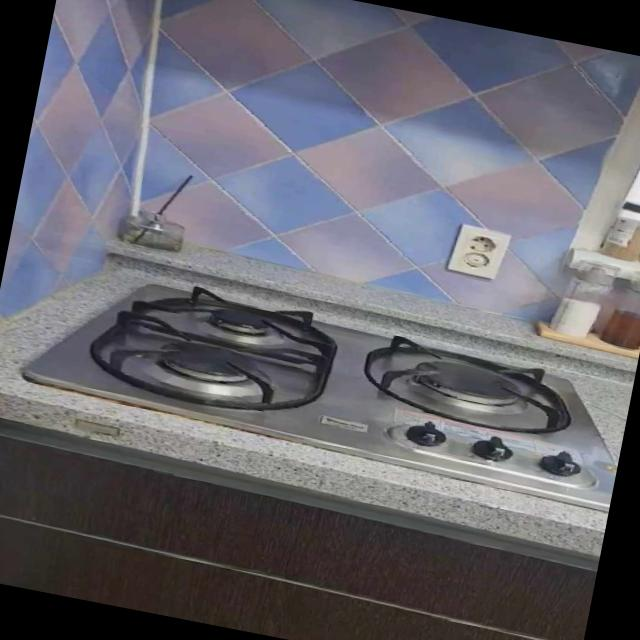knob_OFF: (360, 302, 588, 435), (105, 333, 328, 435), (148, 274, 353, 359)
